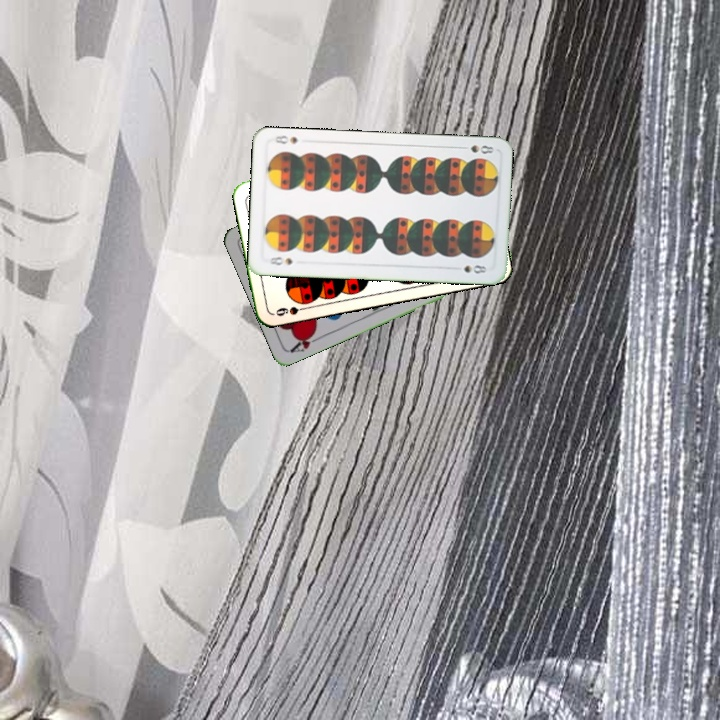HA: (287, 327, 325, 355)
S8: (456, 141, 496, 156), (265, 252, 295, 268)
S9: (270, 296, 311, 319)
